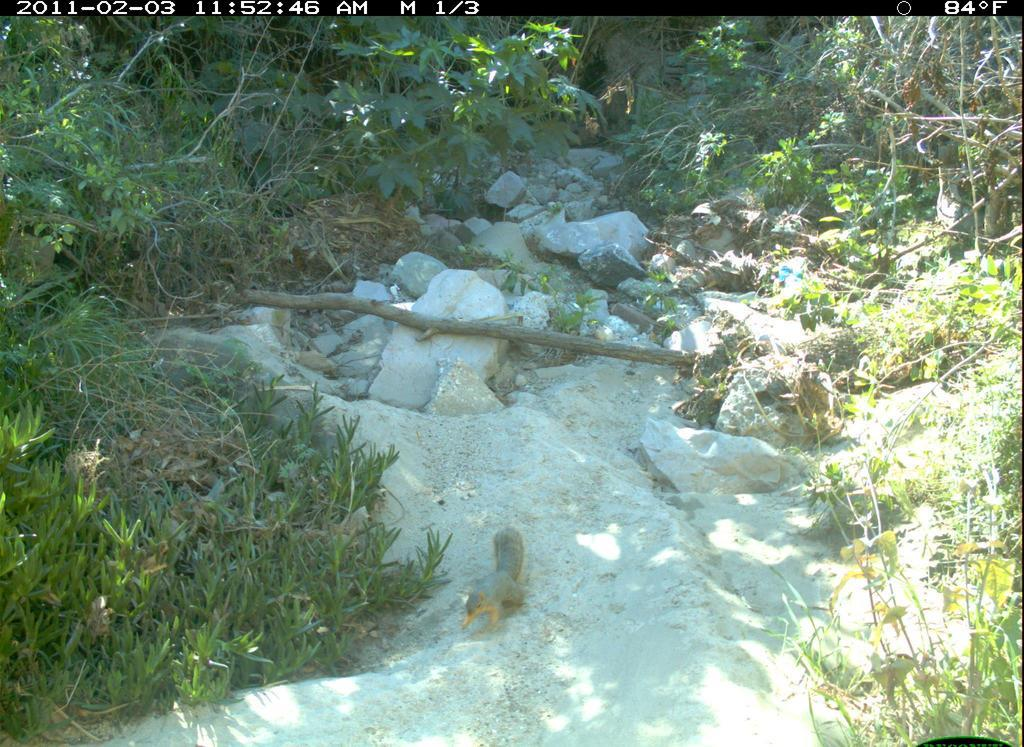squirrel: (451, 518, 537, 646)
